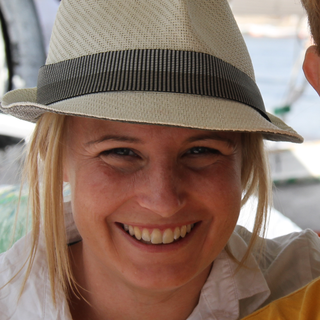eye: (94, 141, 144, 165), (179, 142, 227, 164)
